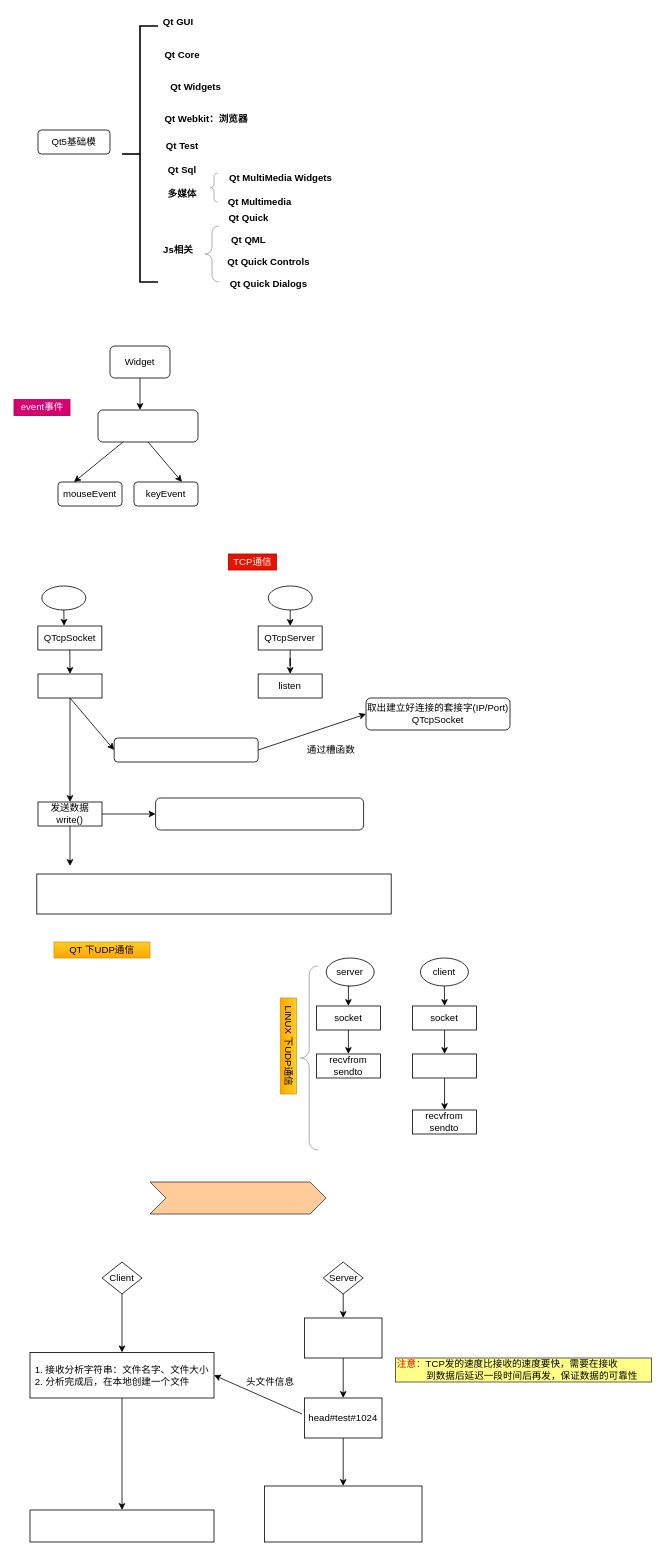
The diagram is 666 pixels wide and 1556 high, and some of its shapes have lost their labels. The centre of each missing label's shape, as x and y in pixels:
"1. Server发发多少，client就接收多少 2. 把接收到的内容写到文件里面" belongs at point 121,1525.
"1. 读文件 2. 发送数据（读多少就发多少） 3. 发送文件大小和获取到的文件大小" belongs at point 343,1513.
"bind" belongs at point 444,1065.
"client如果成功和对方建立连接，通信套接字会自动触发connected() 如果server方主动断开连接，通信套接字会主动触发disconnected()" belongs at point 213,893.
"connectToHost" belongs at point 69,685.
"event() 作用：用于事件的分发" belongs at point 147,425.
"TCP Client与Server之间传输文件" belongs at point 237,1197.
"如果数据发送成功，对方的通信套接字会触发readyRead()，需要在对应的槽函数做接收处理" belongs at point 259,813.
"客户端" belongs at point 63,597.
"客户端连接成功，服务器会触发newConnection()" belongs at point 185,749.
"服务器端" belongs at point 289,597.
"选择一个文件 文件大小：1024 文件名字：test" belongs at point 343,1337.
